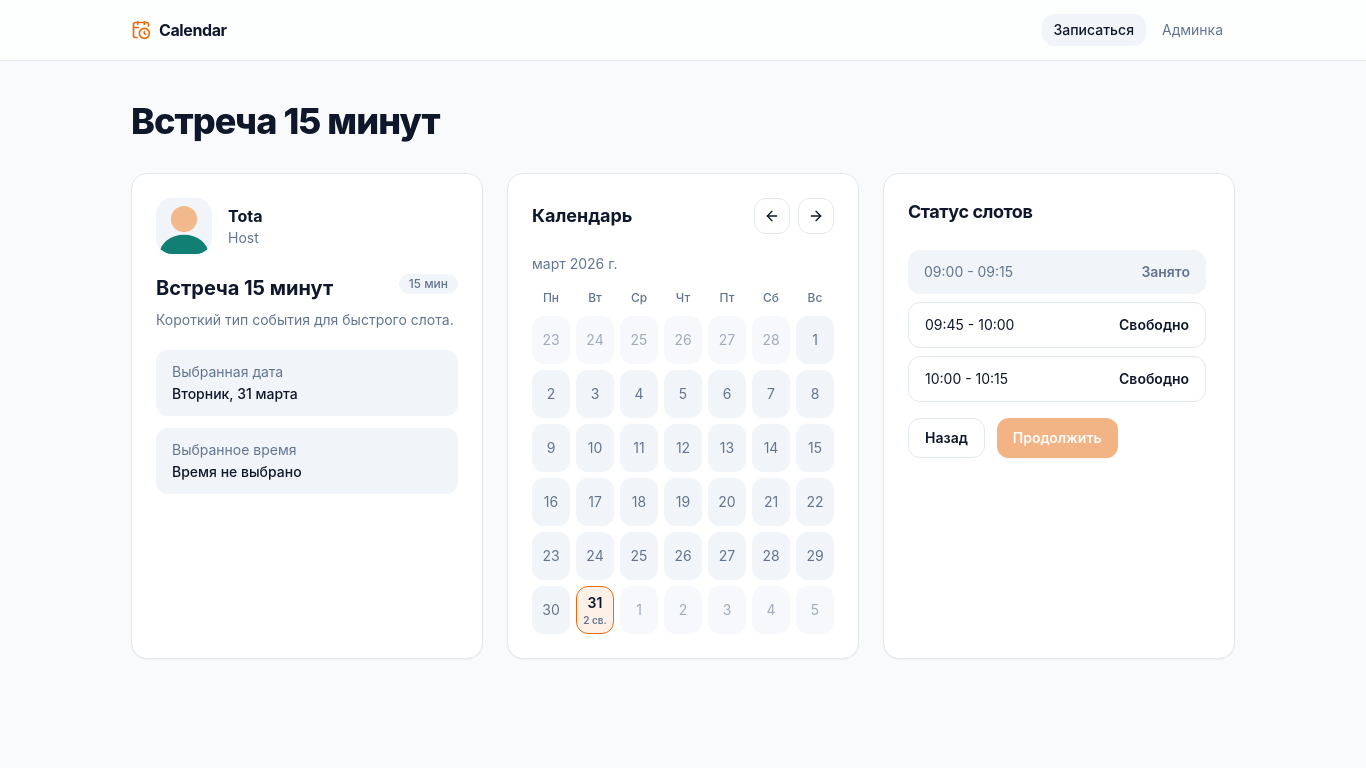
Test: BookingPage › проводит гостя от выбора слота до подтверждения
Step 1. Click the button "09:45 - 10:00 Свободно" → [970, 324], box [908,302,1206,348]
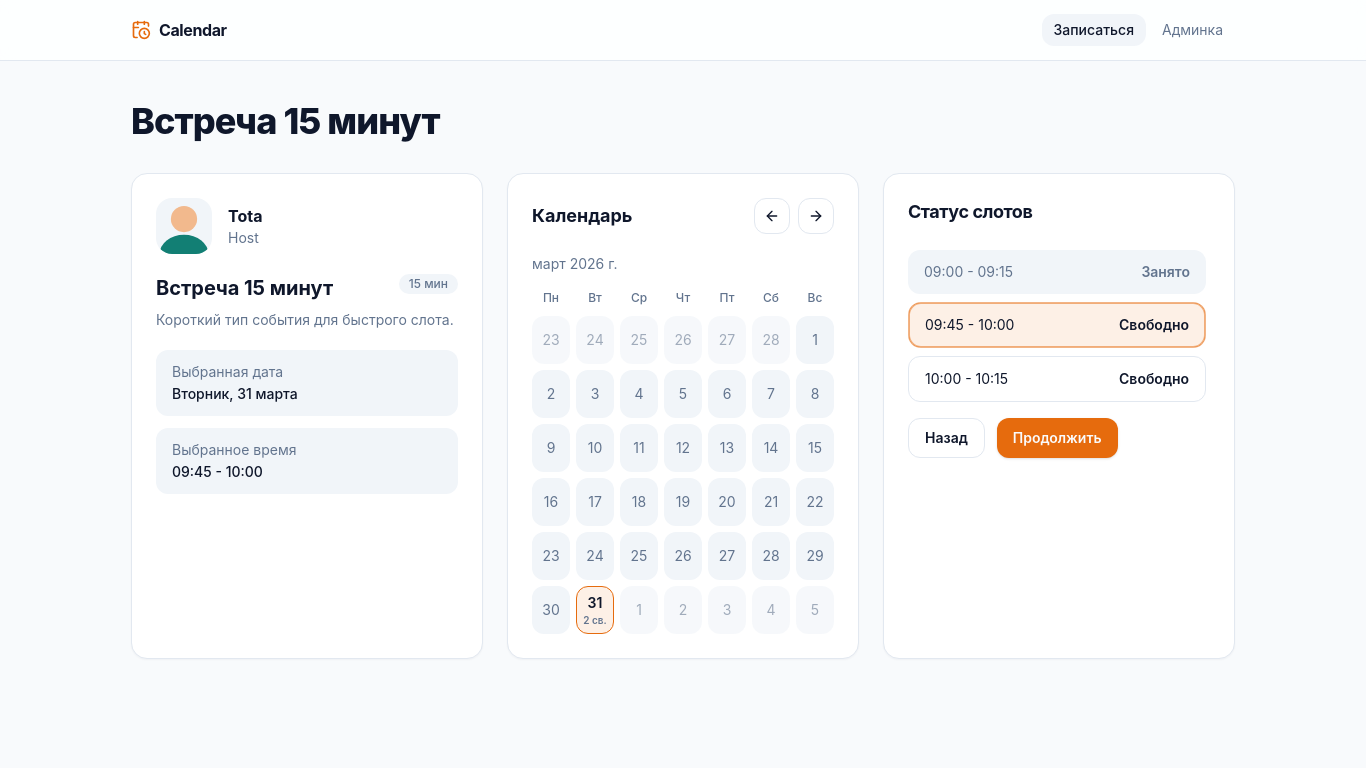
Step 2. Click the button "Продолжить" → [1057, 438], box [997,418,1118,458]
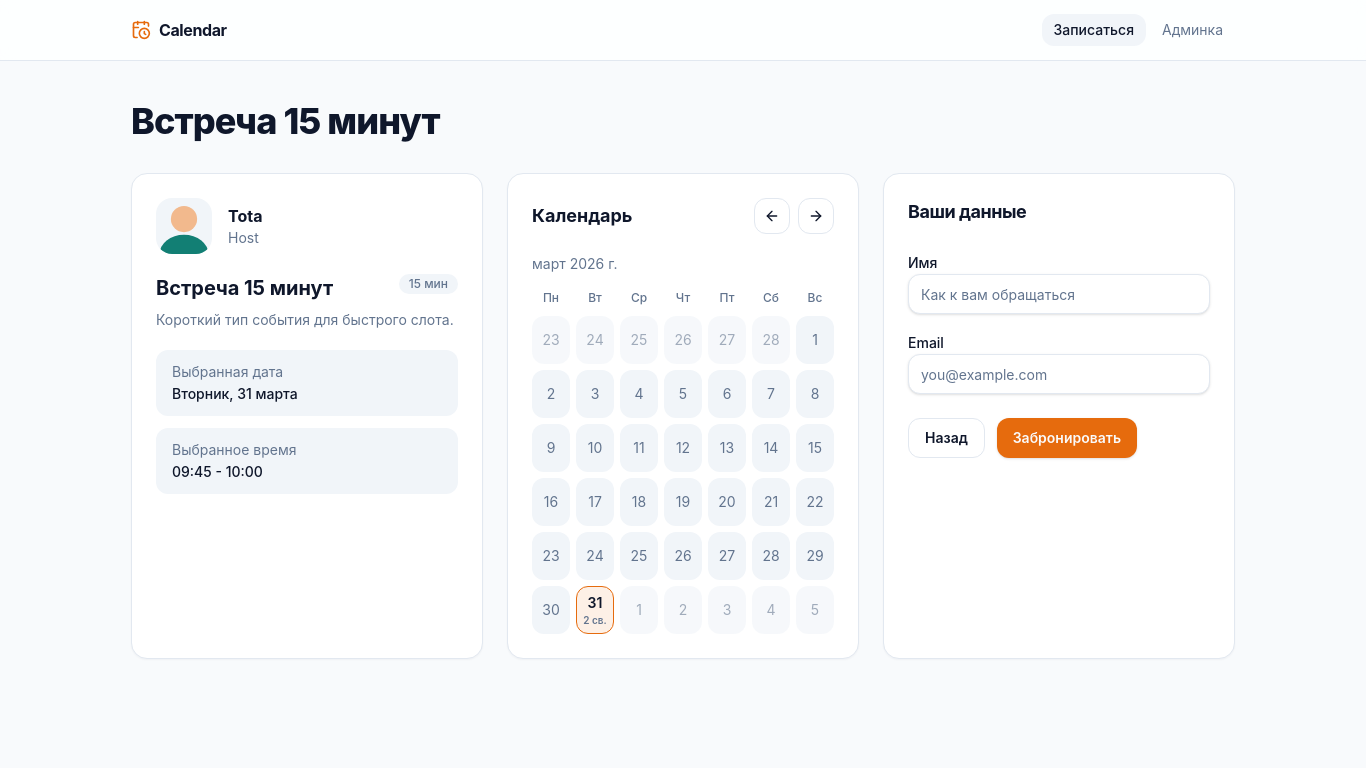
Step 3. Type "Мария" into the field labelled "Имя" → [1059, 294], box [908,274,1210,314]
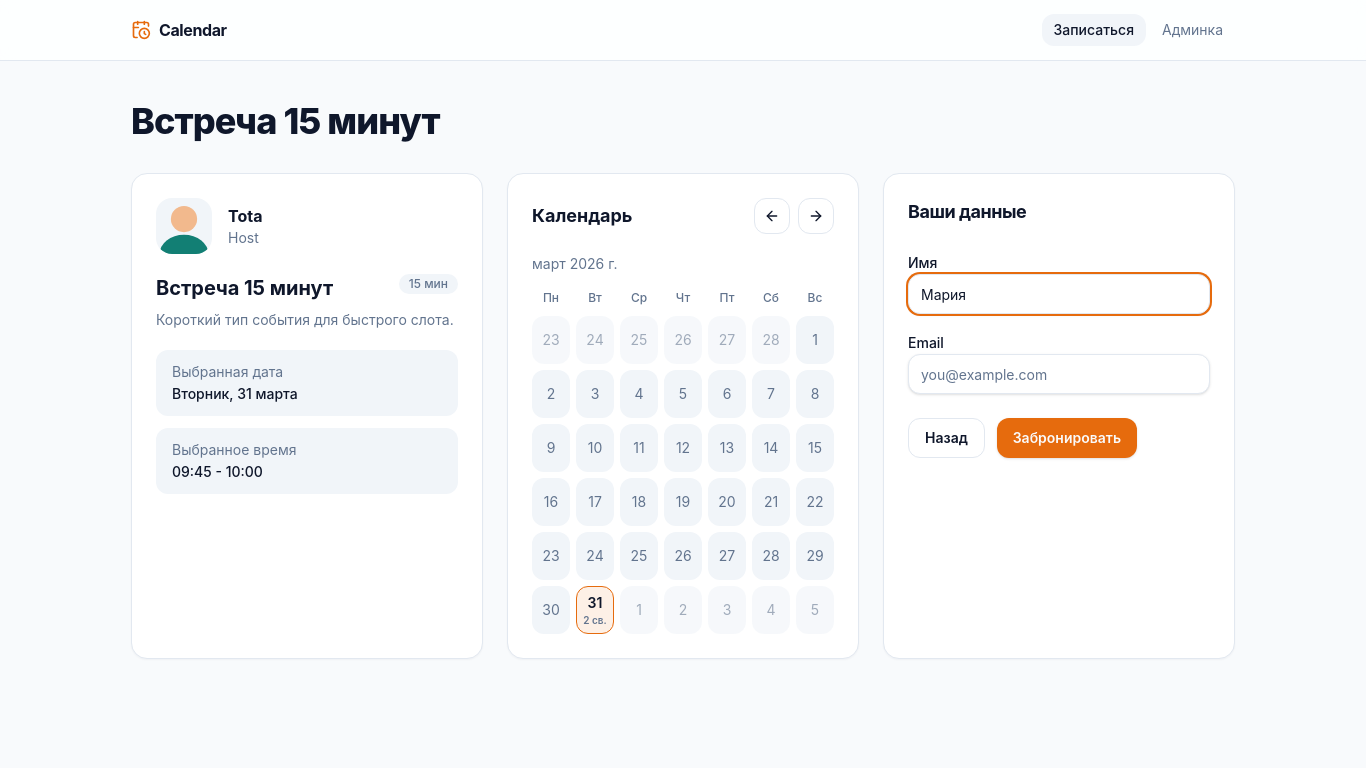
Step 4. Type "maria@example.com" into the field labelled "Email" → [1059, 374], box [908,354,1210,394]
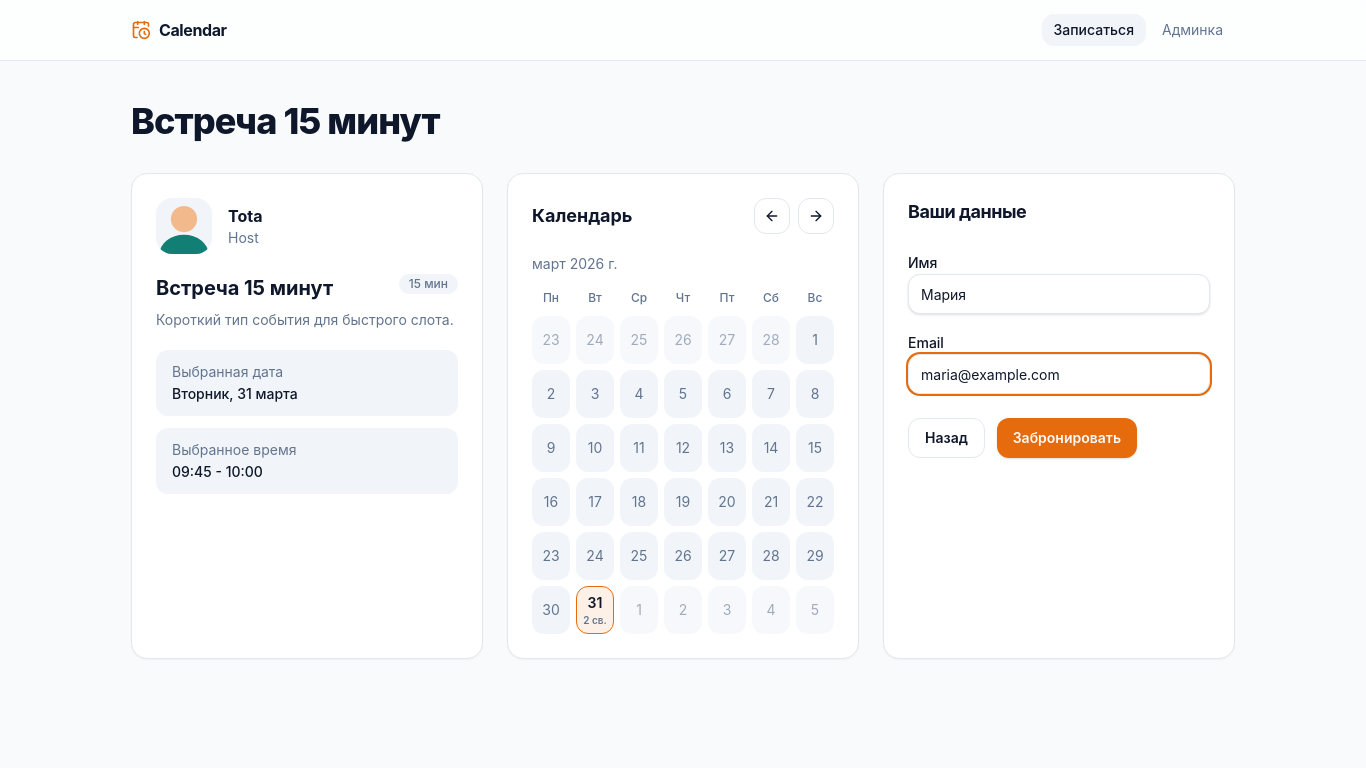
Step 5. Click the button "Забронировать" → [1067, 438], box [997,418,1137,458]
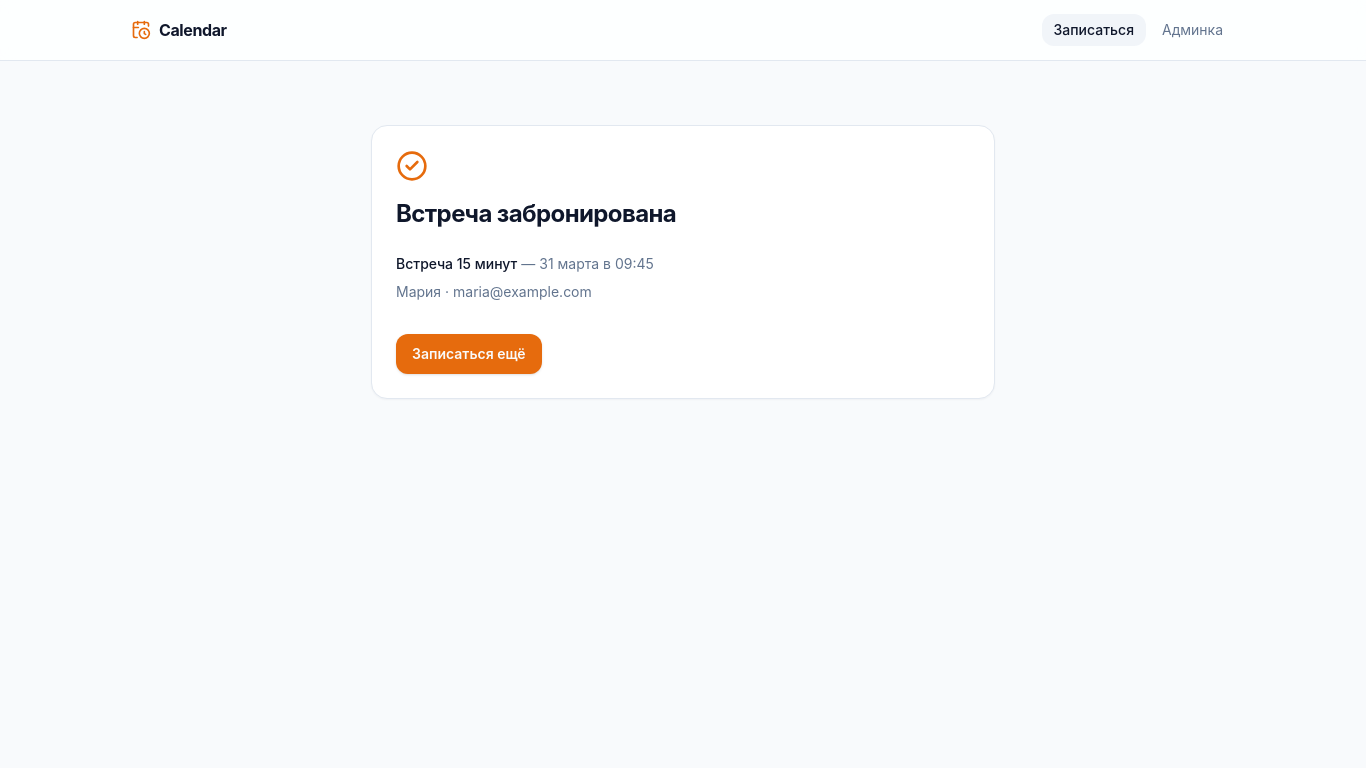
Expected: the heading "Встреча забронирована" is shown, [396,198,676,230]
